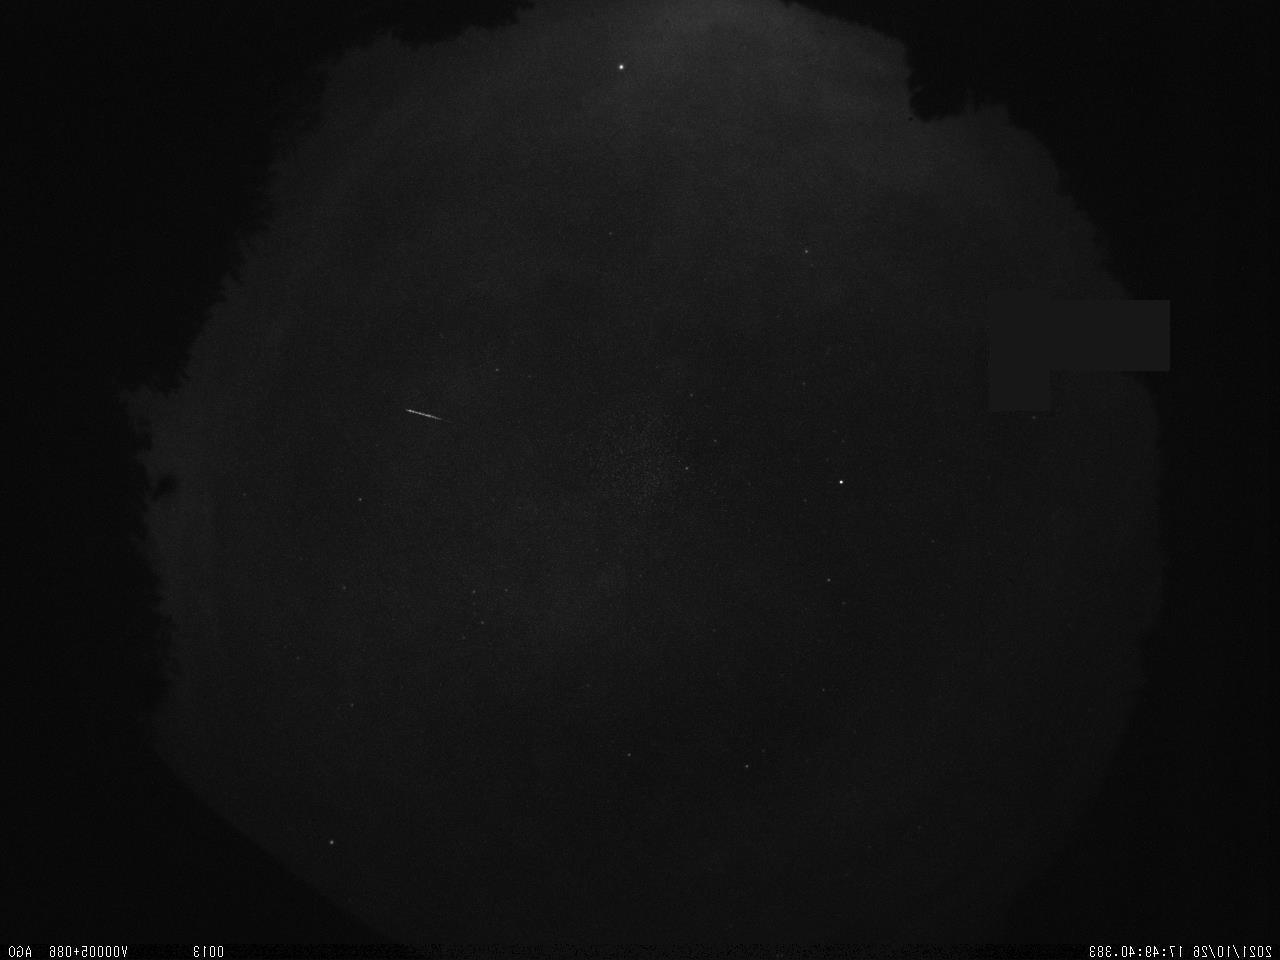meteor: (351, 386, 468, 439)
